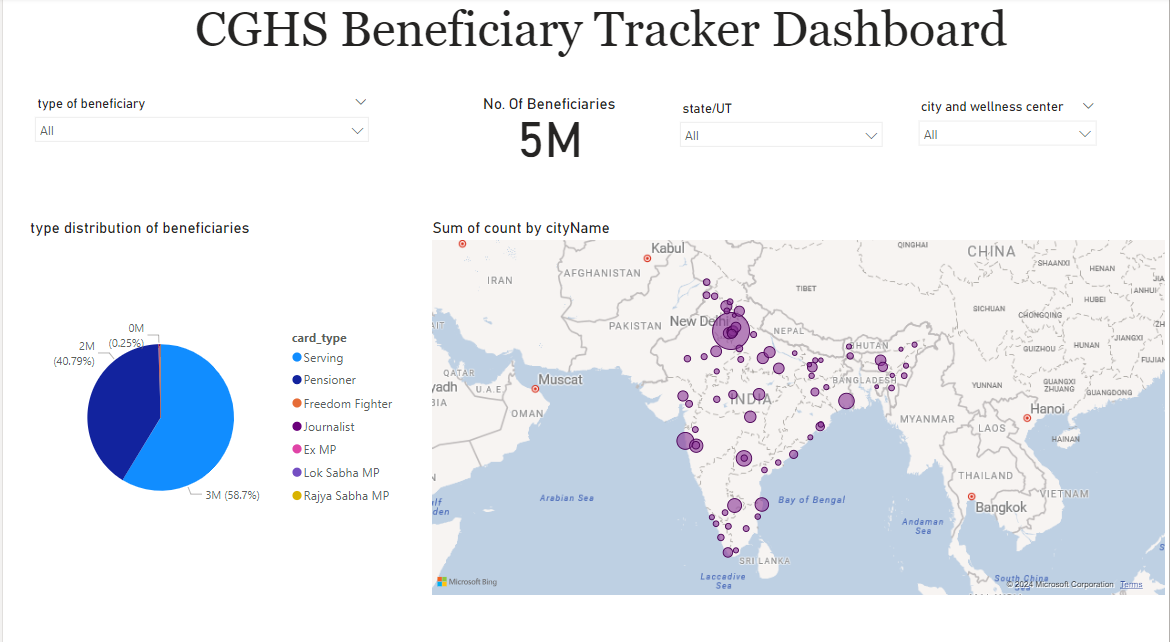

The page's visual inventory and layout, read from the dashboard file:
{"tool":"powerbi","page":{"name":"Page 1","canvas":[1280,720],"ordinal":0},"visuals":[{"type":"card","title":"No. Of Beneficiaries","fields":{"Values":["Sum(CGHS beneficiaries.count)"]},"box":[466.6,107,266.2,85.1],"z":0},{"type":"pieChart","title":"type distribution of beneficiaries","fields":{"Category":["CGHS beneficiaries.card_type"],"Y":["Sum(CGHS beneficiaries.count)"]},"box":[24.7,242.9,417.2,418.5],"z":1000},{"type":"map","fields":{"Category":["CGHS beneficiaries.cityName"],"Size":["Sum(CGHS beneficiaries.count)"]},"box":[465.9,243.3,814.4,418.2],"z":2000},{"type":"slicer","fields":{"Values":["CGHS beneficiaries.card_type"]},"box":[24.7,102.9,387,86.4],"z":3000},{"type":"textbox","box":[205.8,0,1004.5,74.1],"z":4000},{"type":"slicer","fields":{"Values":["CGHS beneficiaries.state/UT"]},"box":[732.8,108.4,242.9,81],"z":5000},{"type":"slicer","fields":{"Values":["CGHS beneficiaries.cityName","CGHS beneficiaries.wellnessCentreName"]},"box":[994.9,107,215.4,85.1],"z":6000}]}

Visuals, with their boxes in screenshot pixels (x1, y1, x2, y2), scaled from the page's 1280x720 canvas onto the 1170x642 screenshot:
"No. Of Beneficiaries" card: (x1=427, y1=95, x2=670, y2=171)
"type distribution of beneficiaries" pieChart: (x1=23, y1=217, x2=404, y2=590)
map - CGHS beneficiaries.cityName x Sum(CGHS beneficiaries.count): (x1=426, y1=217, x2=1169, y2=590)
slicer - CGHS beneficiaries.card_type: (x1=23, y1=92, x2=376, y2=169)
textbox: (x1=188, y1=0, x2=1106, y2=66)
slicer - CGHS beneficiaries.state/UT: (x1=670, y1=97, x2=892, y2=169)
slicer - CGHS beneficiaries.cityName x CGHS beneficiaries.wellnessCentreName: (x1=909, y1=95, x2=1106, y2=171)
